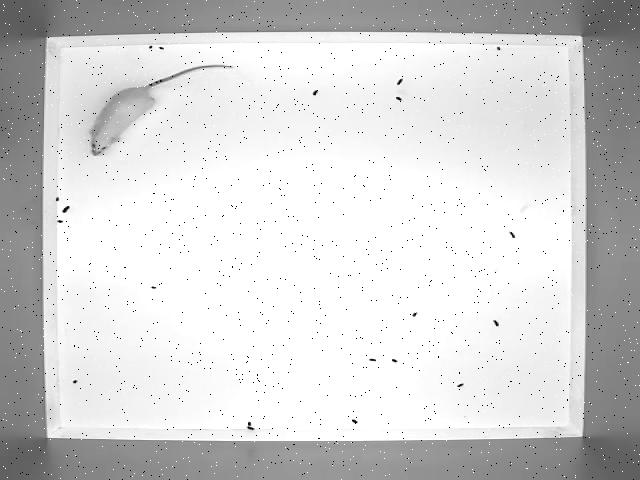Tikus: (90, 61, 236, 158)
